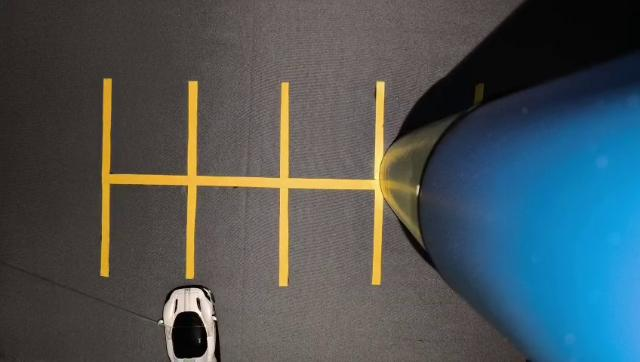toy_car: (141, 265, 267, 362)
